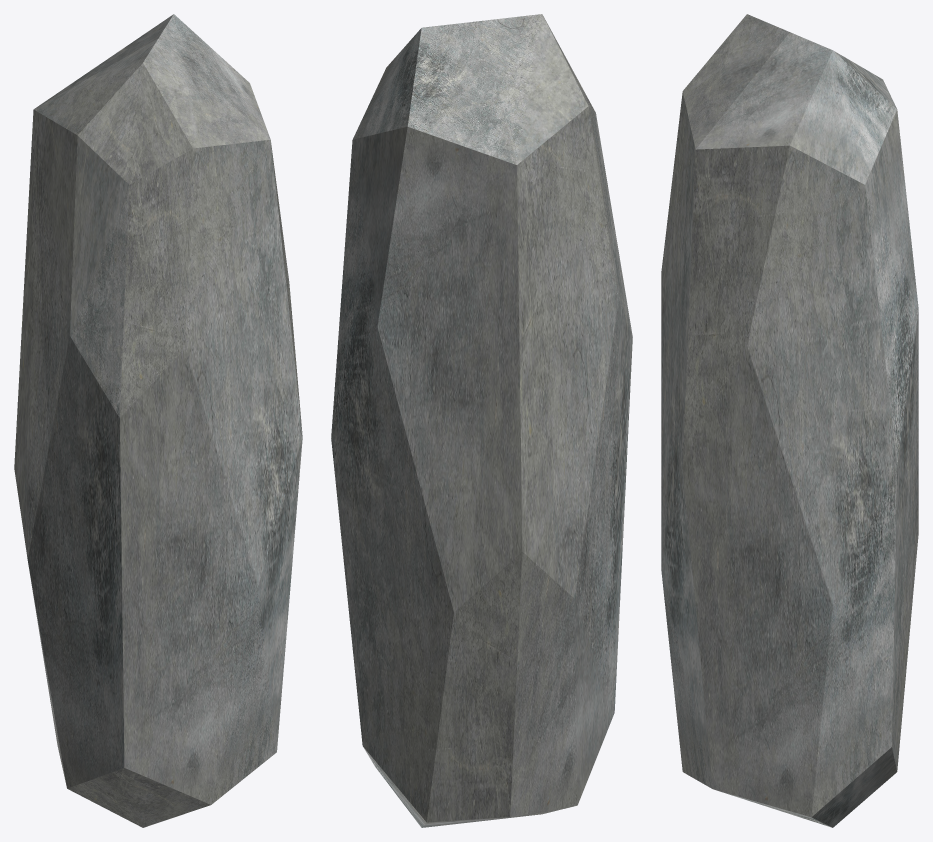
The model's file is metal-obelisk.obj.
3 renders of one model, left to right at view 1: azimuth 30°, elevation 25°; view 2: azimuth 150°, elevation 25°; view 3: azimuth 270°, elevation 25°, orthographic. The views are drawn at different scales.
Parts seen in each view (by area): view 1: Cube; view 2: Cube; view 3: Cube.
Part boxes in pixels (left/top/right/bottom): Cube: left=14, top=14, right=302, bottom=827; Cube: left=331, top=14, right=632, bottom=827; Cube: left=661, top=14, right=918, bottom=827.
Bounding box in the file's own units: 0.3 × 0.9996 × 0.3.
